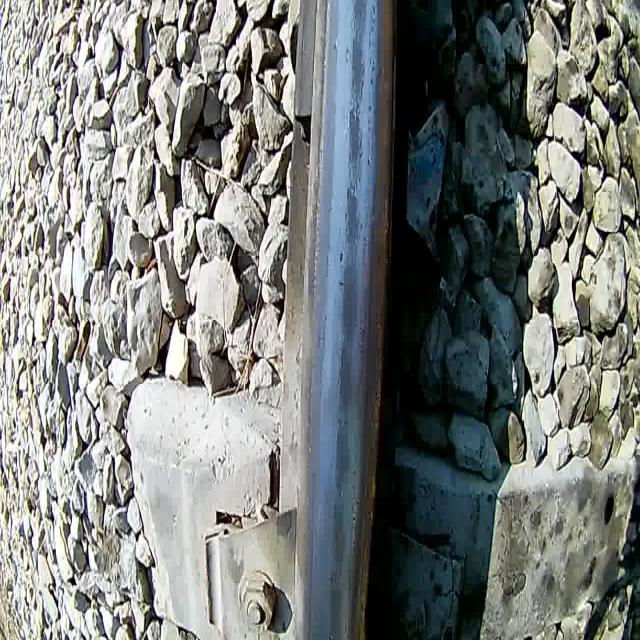Cracks: (347, 82, 367, 131), (323, 553, 348, 587), (335, 345, 347, 401), (356, 122, 364, 176)
Squats: (337, 248, 363, 343), (343, 104, 367, 192), (332, 414, 353, 502), (344, 34, 368, 106), (326, 500, 348, 577), (334, 344, 356, 416), (340, 186, 364, 248), (325, 566, 345, 640), (349, 0, 368, 41)
